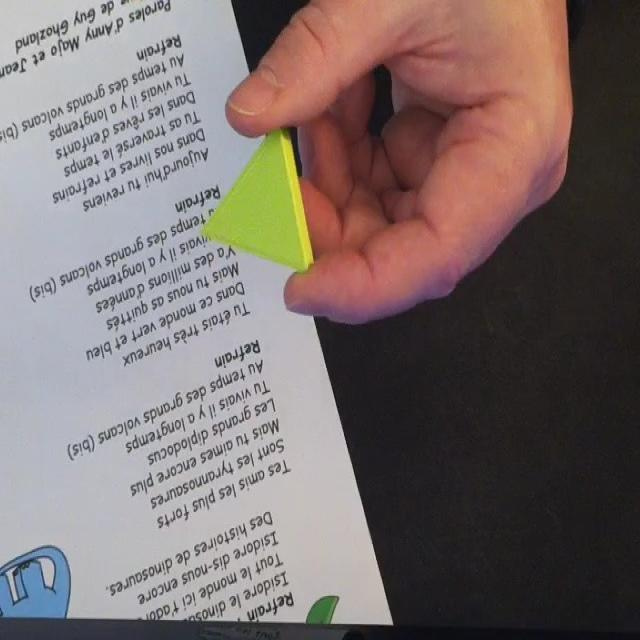triangle: (199, 122, 314, 276)
